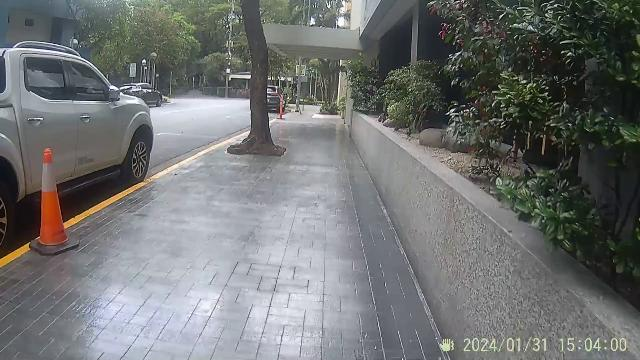construction_materials: (33, 144, 79, 260)
tree: (242, 1, 274, 159)
